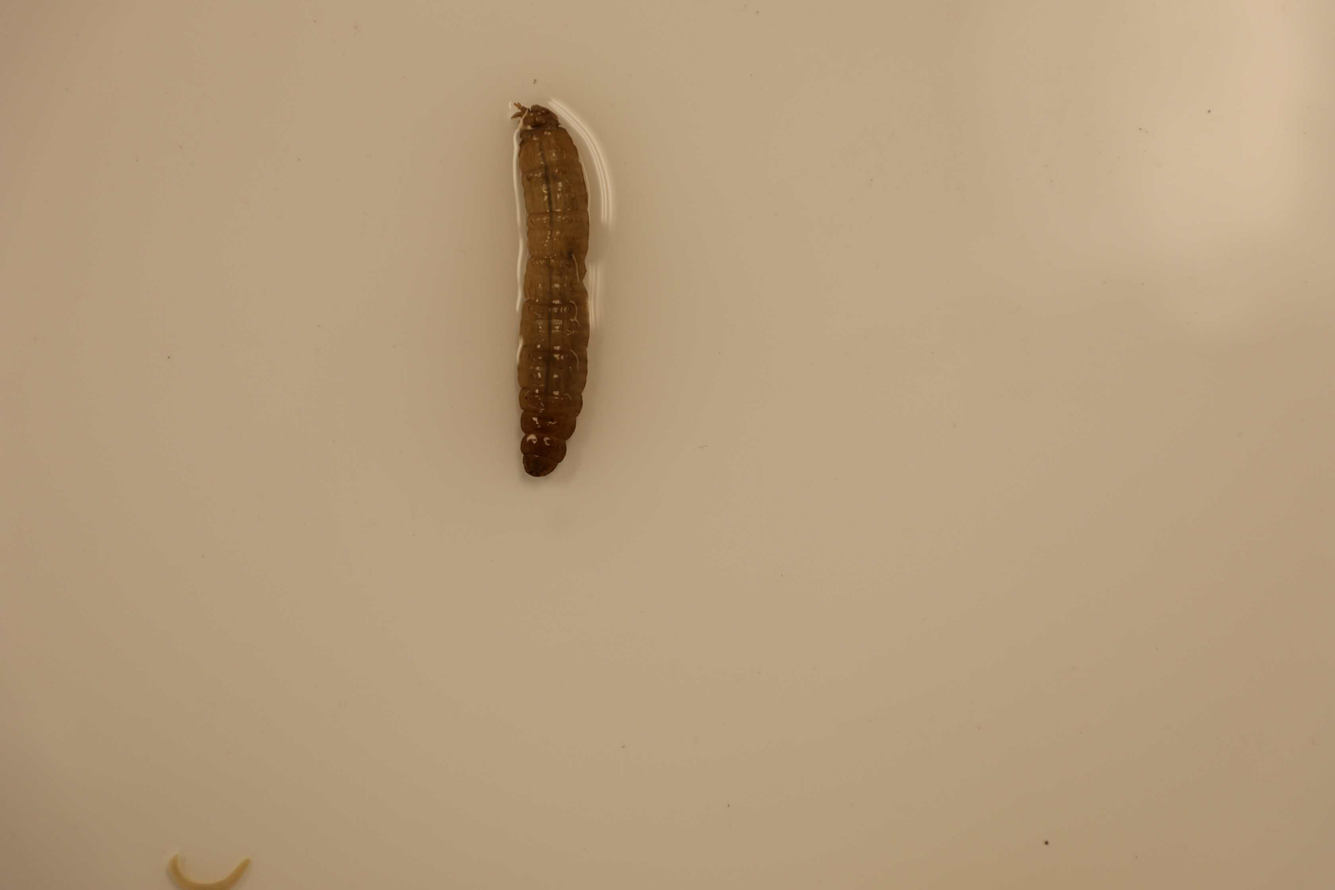Other: (511, 103, 593, 483)
